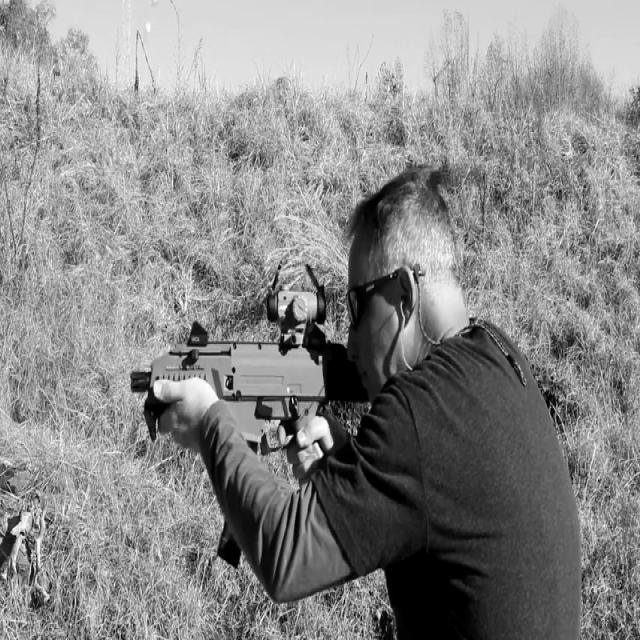Sub-machine-gun: (91, 224, 460, 640)
